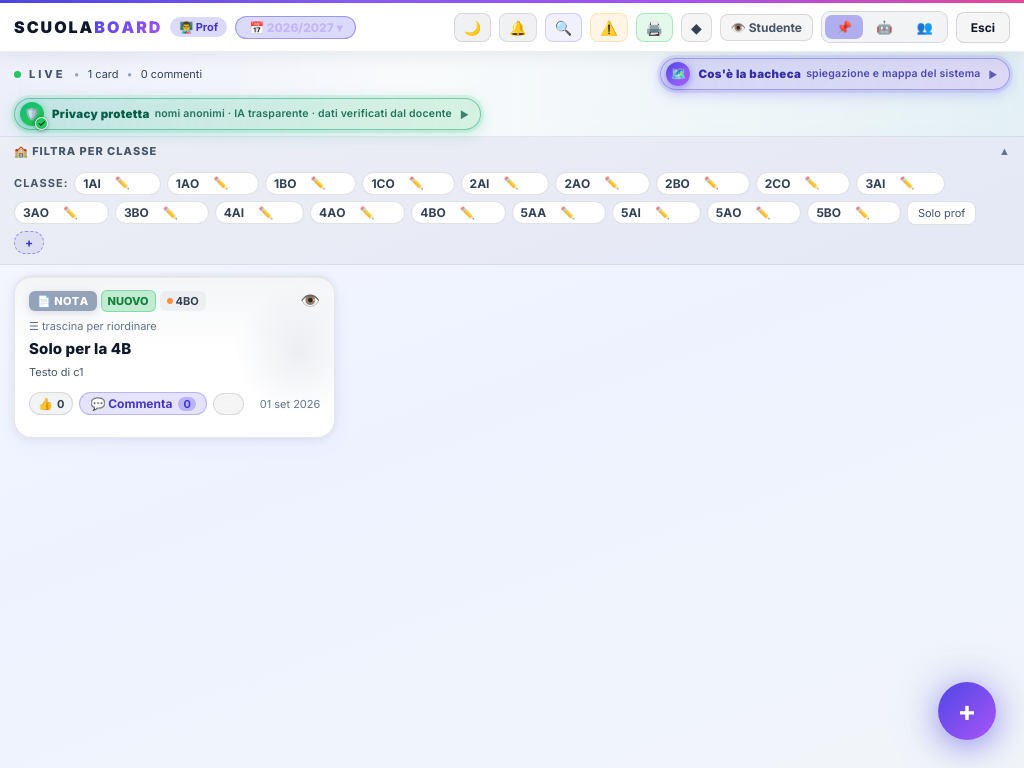
Test: Elimina card limitata alla classe selezionata › dopo l'esclusione la card sparisce dalla griglia della 3A
Expected: the text "Solo per la 4B" is shown, 29,338 -> 131,358
Click the button "4BO" at (433, 212), box 412,202 -> 454,223
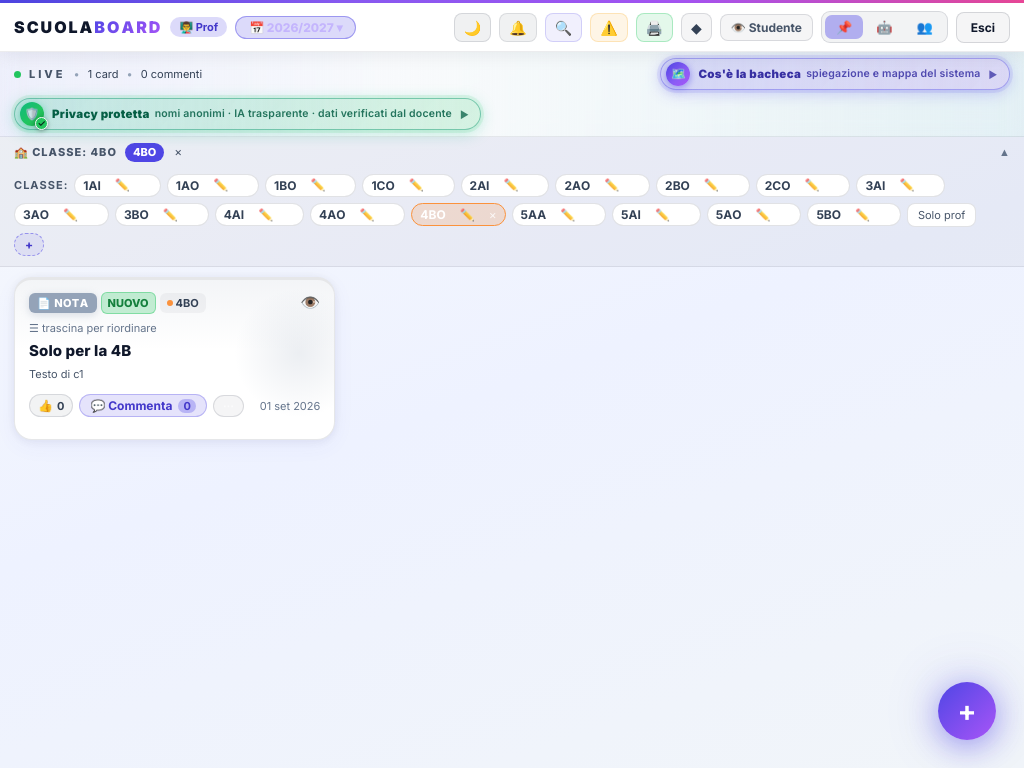
Expected: the text "Solo per la 4B" is shown, 29,340 -> 131,360
Click the button named "Altre azioni" at (228, 406), box 213,395 -> 244,417
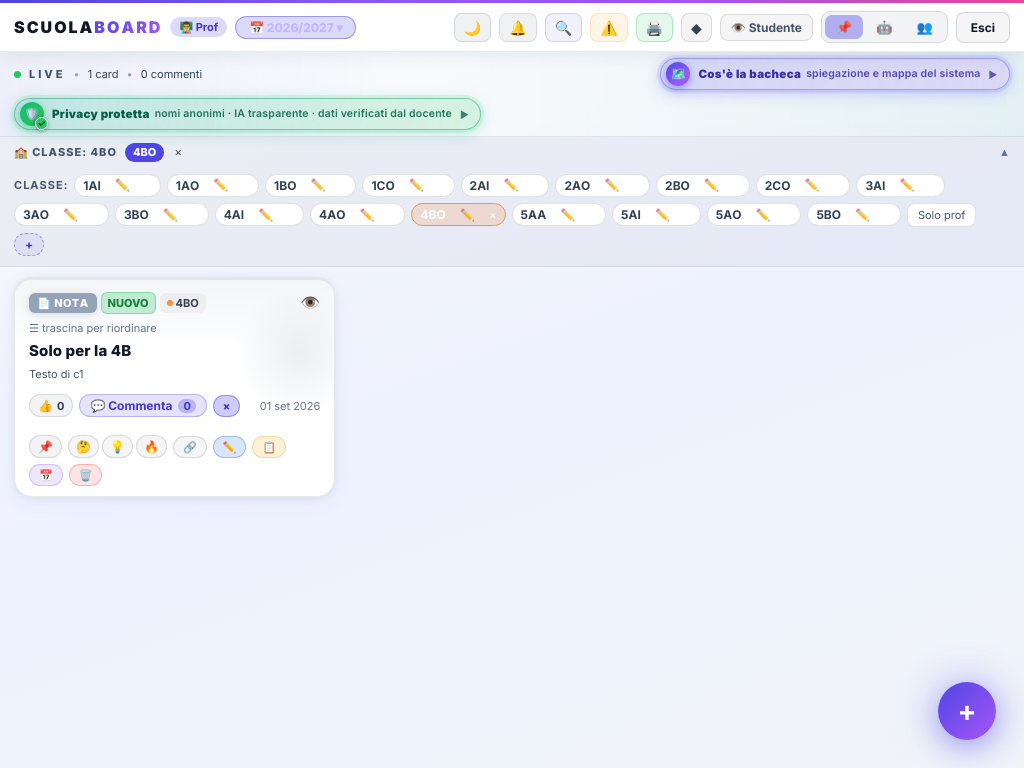
Click the button named "Elimina" at (86, 475), box 69,464 -> 102,486
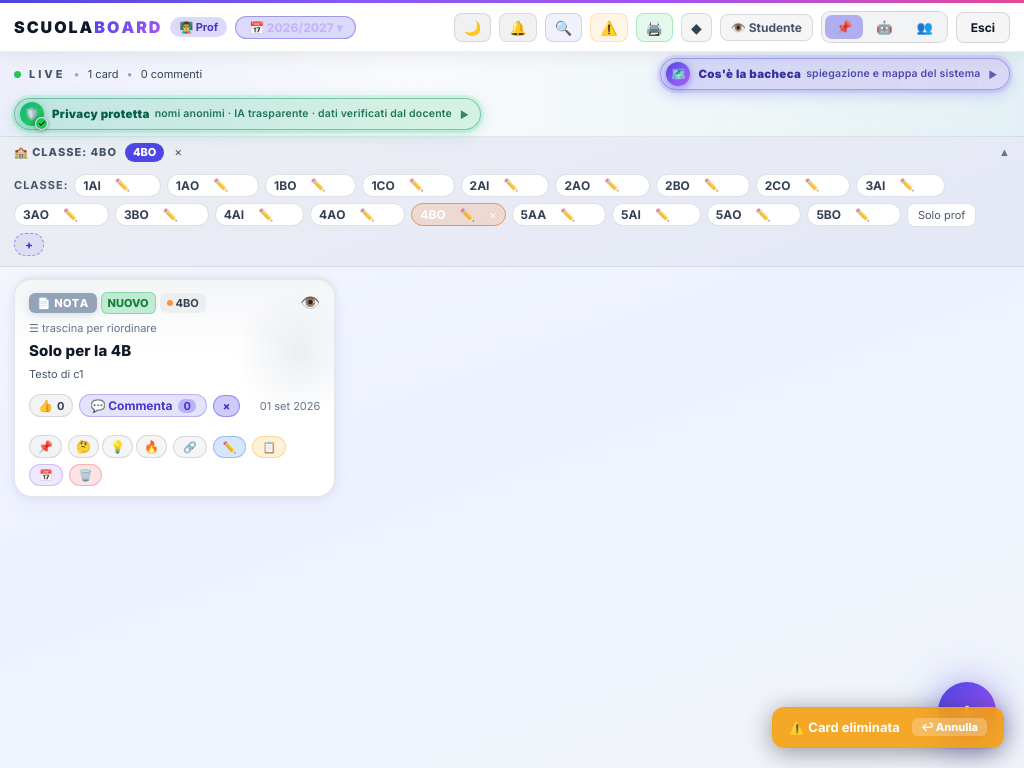
Now the text "⚠️ Card eliminata ↩ Annulla" is shown, box 772,706 -> 1004,748
